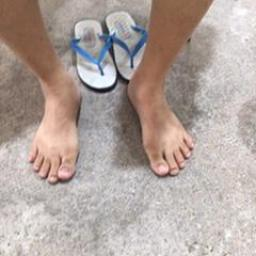Dorsal View -Both Feet-: (16, 60, 197, 199)
